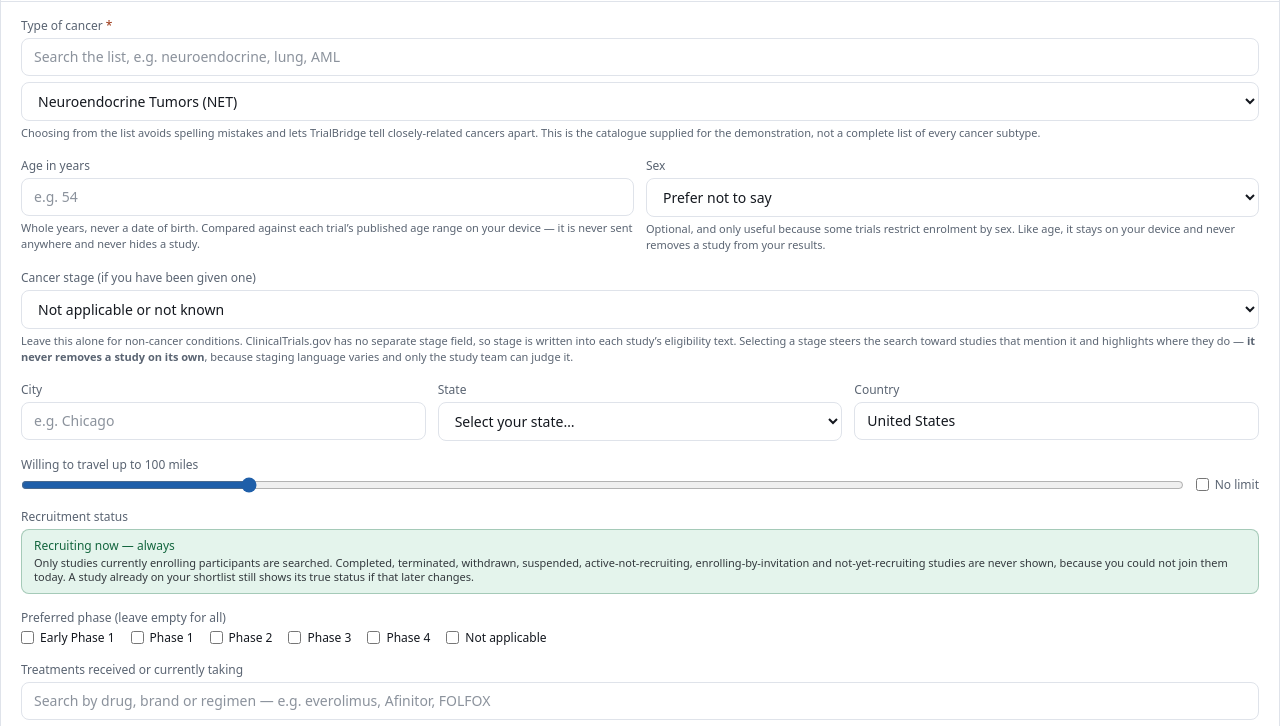
Test: finding a treatment › says so plainly when nothing matches, instead of showing an empty box
Type "zzzzz" into the search field labelled "Treatments received or currently taking". click: x=640, y=701
box: left=21, top=682, right=1259, bottom=720
(page scrolled)
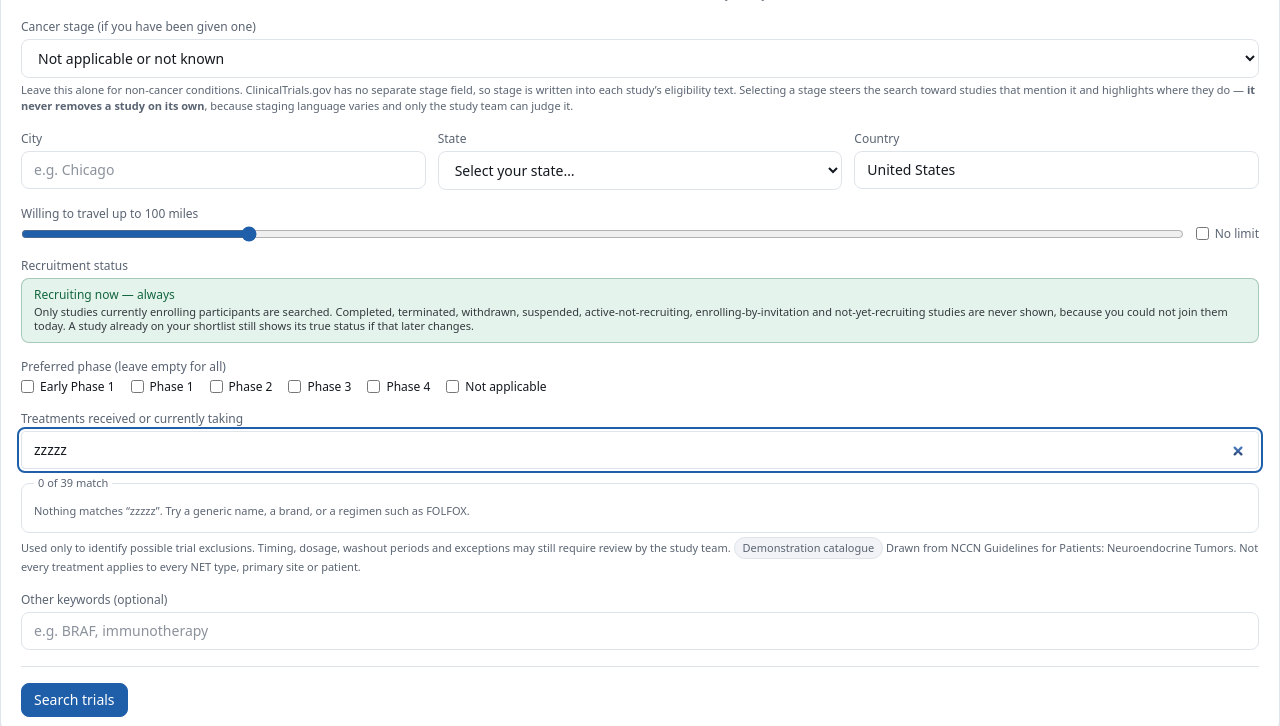
Check: the text "Nothing matches" is shown, box left=34, top=503, right=130, bottom=518
